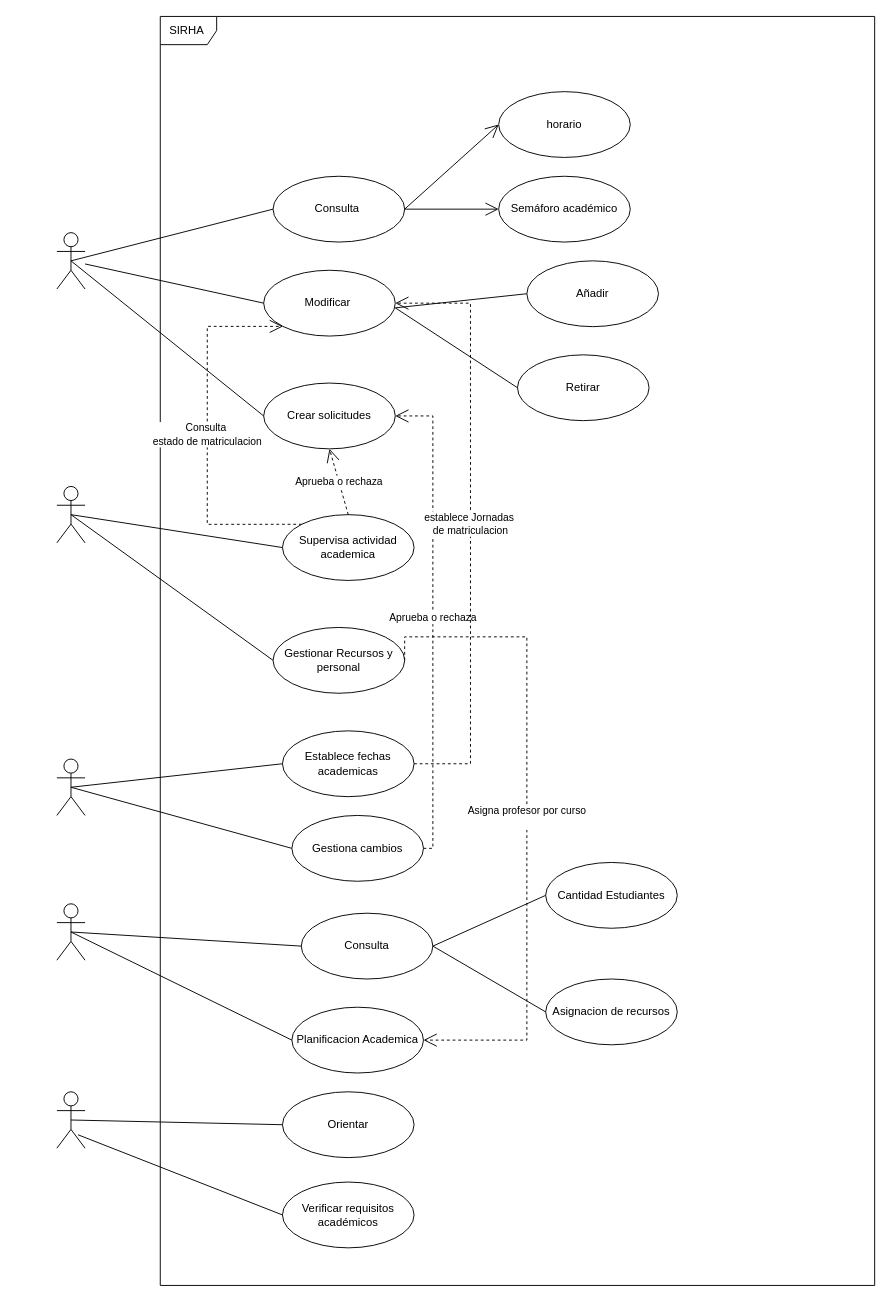
The diagram is 891 pixels wide and 1302 high, and some of its shapes have lost their labels. Here are the shapes that lost their labels. From the top down, the centre of each, then its label:
At (x=70, y=260): "Estudiante".
At (x=70, y=514): "Decanatura".
At (x=70, y=786): "Secretaria Academic a".
At (x=70, y=931): "Docente".
At (x=70, y=1119): "Asesor".
